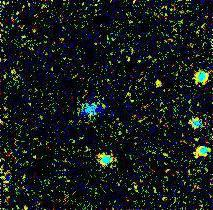star: (144, 67, 174, 97)
